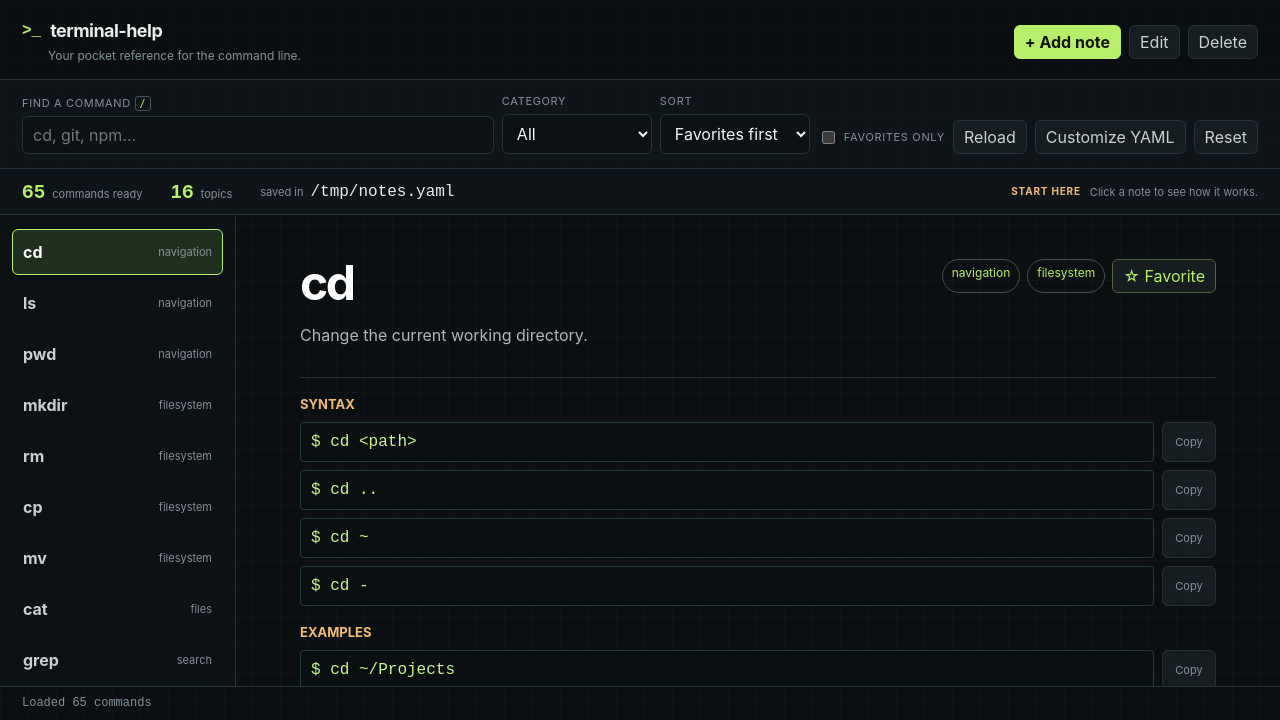
Test case: renderer app › copies a syntax command and reports the action
Expected: the text "Change the current working directory." is shown, x1=300 y1=323 x2=588 y2=347
What coordinates should you click on to do the following:
click the button with aria-label "Copy cd <path>"
I would click on:
 (1189, 442)
Its box is x1=1162 y1=422 x2=1216 y2=462.
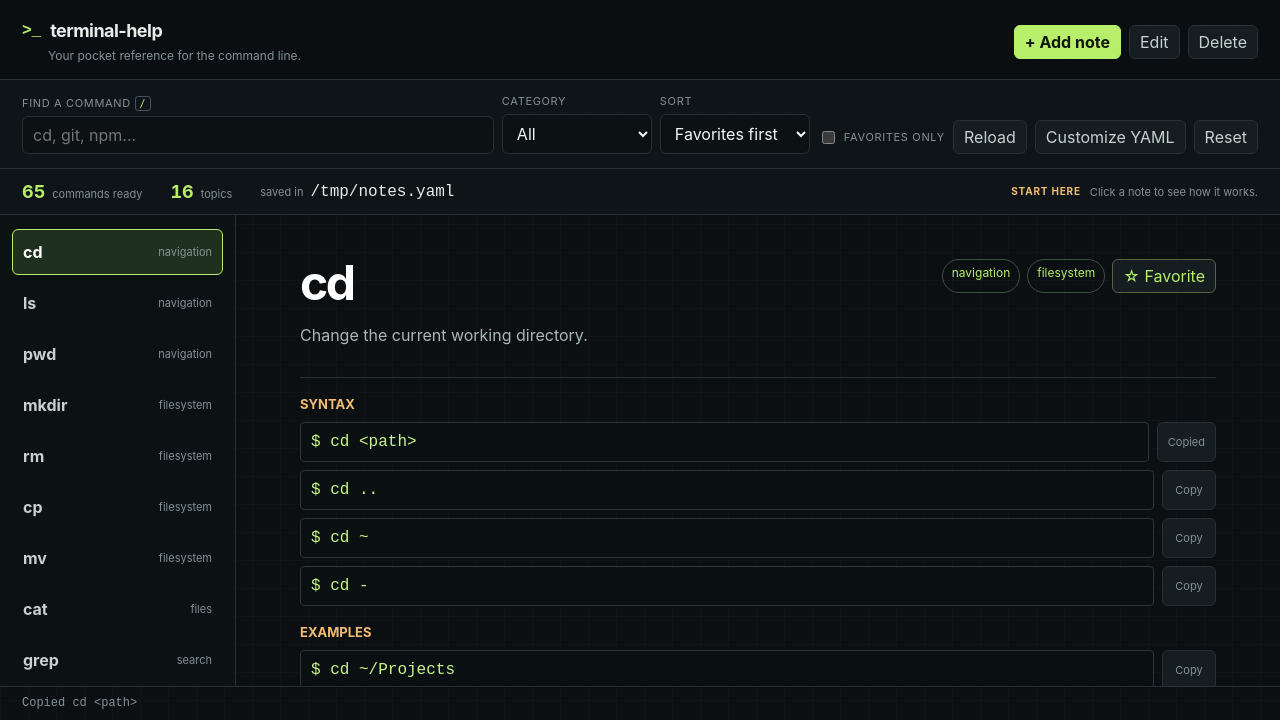
Expected: the text "Copied cd <path>" is shown, x1=0 y1=686 x2=1279 y2=719
